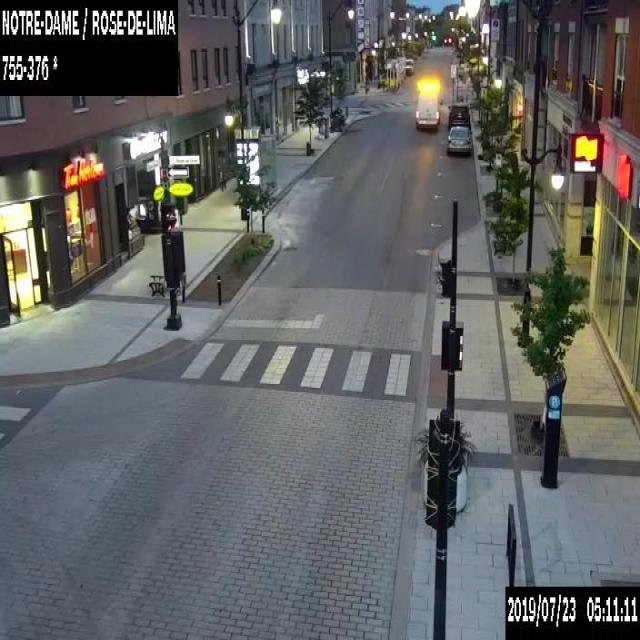vehicle: (415, 93, 439, 127), (446, 125, 472, 153), (447, 104, 470, 128), (404, 58, 414, 74)
